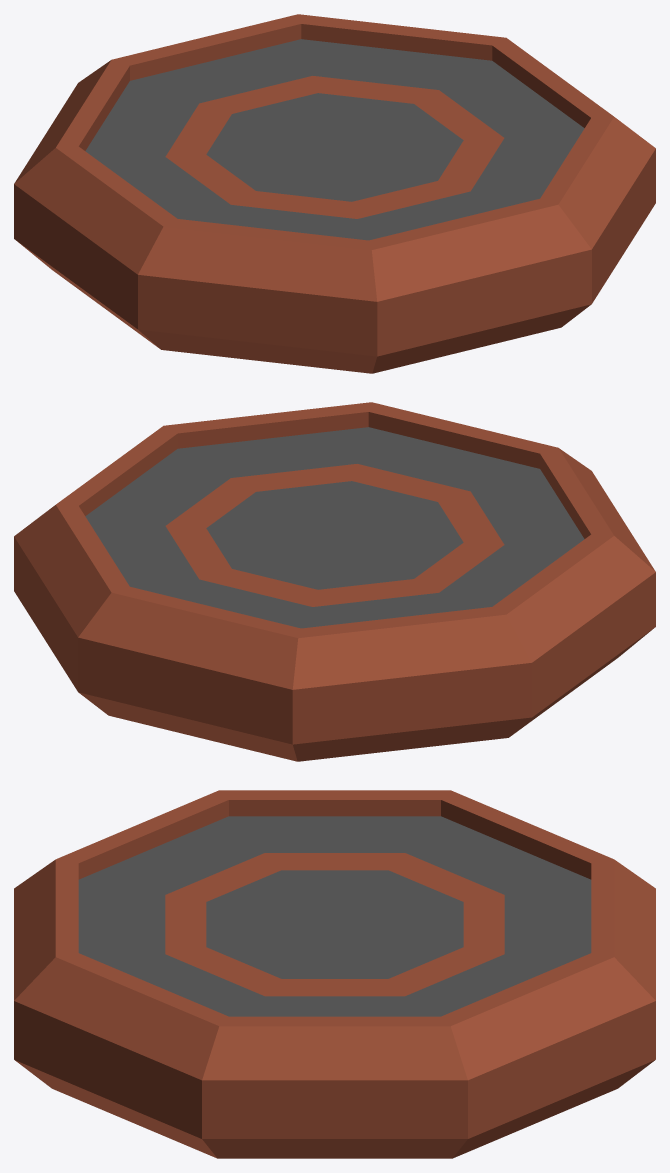
Rendered from lady1.fbx.
The picture shows the model from 3 angles, top to bottom: view 1: azimuth 30°, elevation 25°; view 2: azimuth 150°, elevation 25°; view 3: azimuth 270°, elevation 25°; orthographic projection. The views are drawn at different scales.
Visible parts, largest first — view 1: Cylinder_9; view 2: Cylinder_9; view 3: Cylinder_9.
Part boxes in pixels (<box>): Cylinder_9: <box>14,14,655,373</box>; Cylinder_9: <box>14,402,655,761</box>; Cylinder_9: <box>14,790,655,1158</box>.
Bounding box in the file's own units: 126 × 28.32 × 126.
